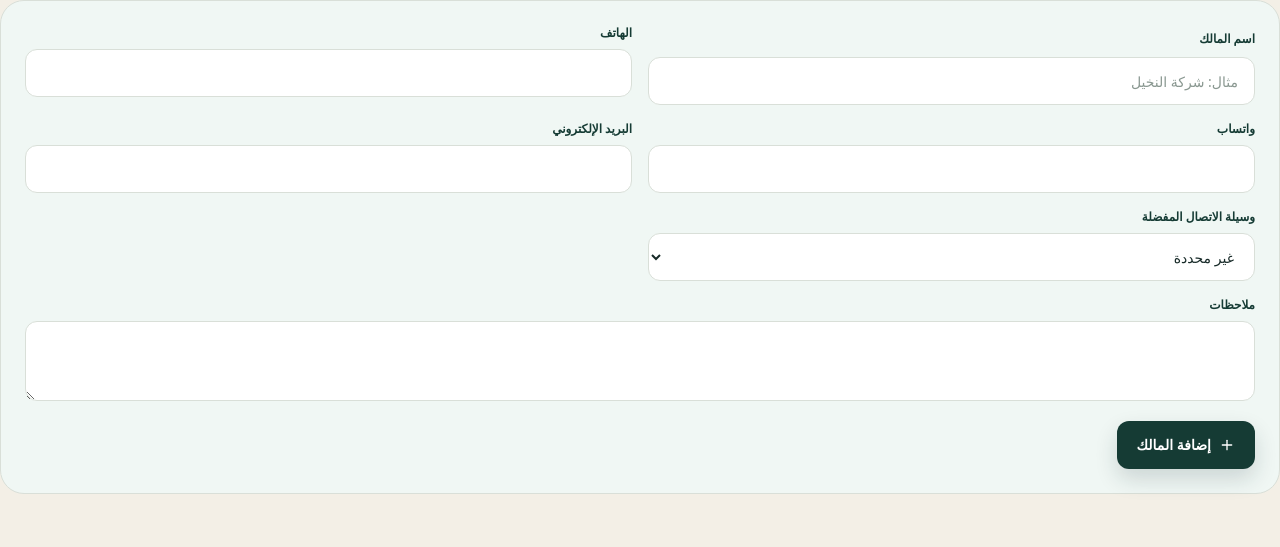
Test: PropertyOwnerCreateForm › submits the Arabic display name to the supplied server action
The width and height of the screenshot is (1280, 547).
In the field labelled "اسم المالك": (952, 81) x1=648 y1=57 x2=1255 y2=105, type "شركة النخيل"
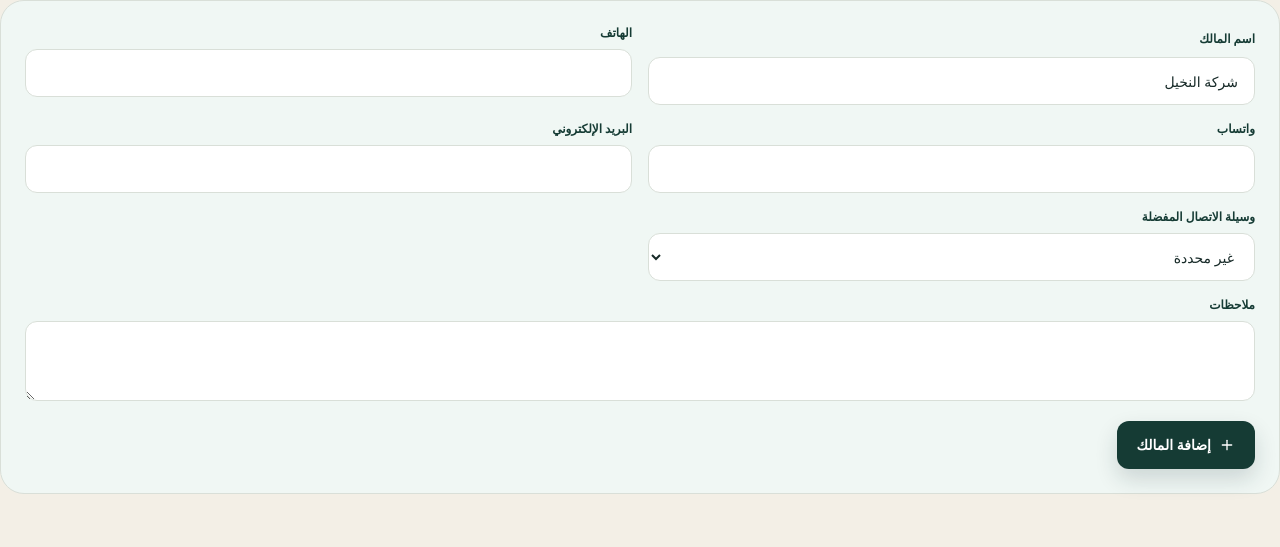
Click the button "إضافة المالك": (1186, 445) x1=1116 y1=421 x2=1255 y2=469
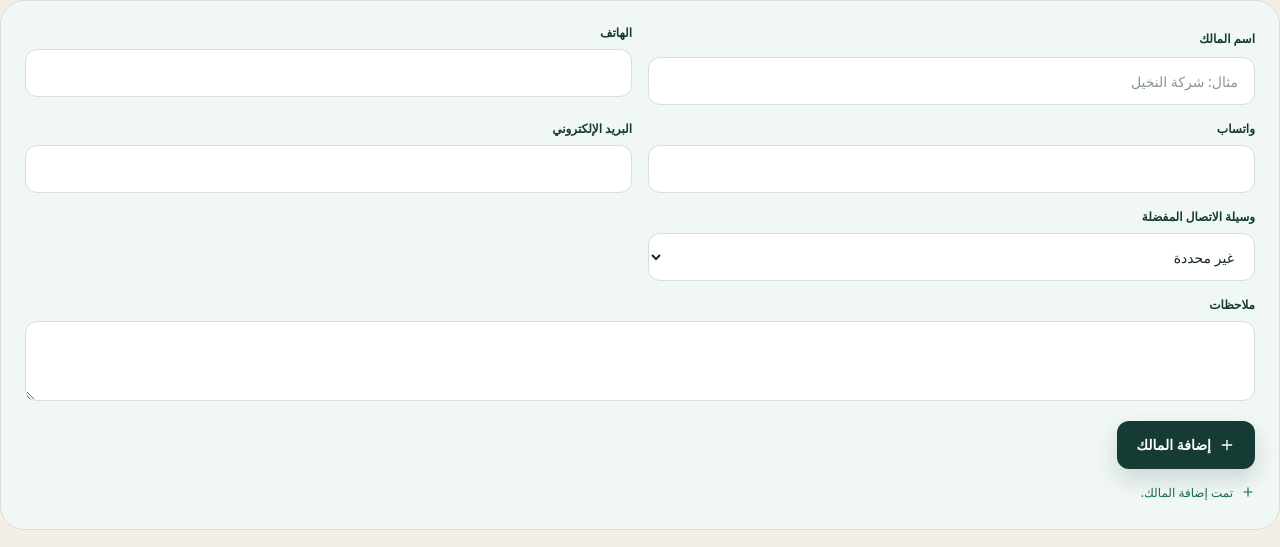
Result: the text "تمت إضافة المالك." is shown at x1=1141 y1=484 x2=1255 y2=501
